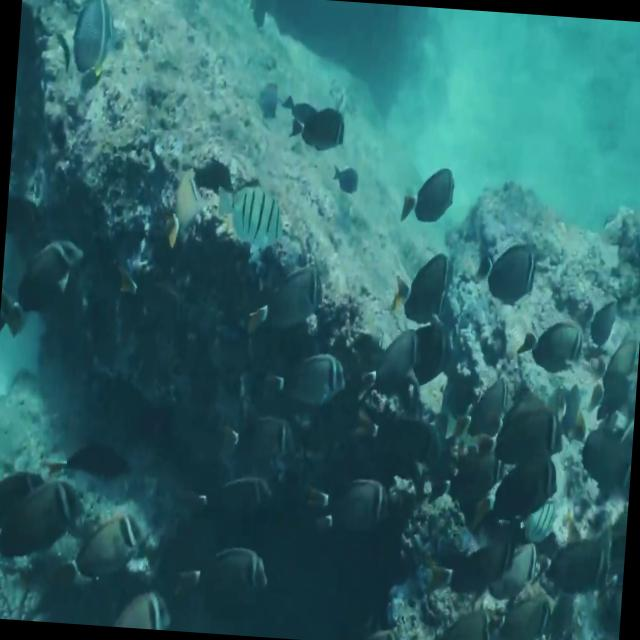fish: (0, 232, 83, 341), (54, 0, 118, 84), (214, 180, 288, 251), (260, 352, 349, 410), (395, 252, 453, 324), (400, 160, 458, 227), (517, 317, 584, 374), (477, 242, 536, 304), (330, 162, 358, 196)
